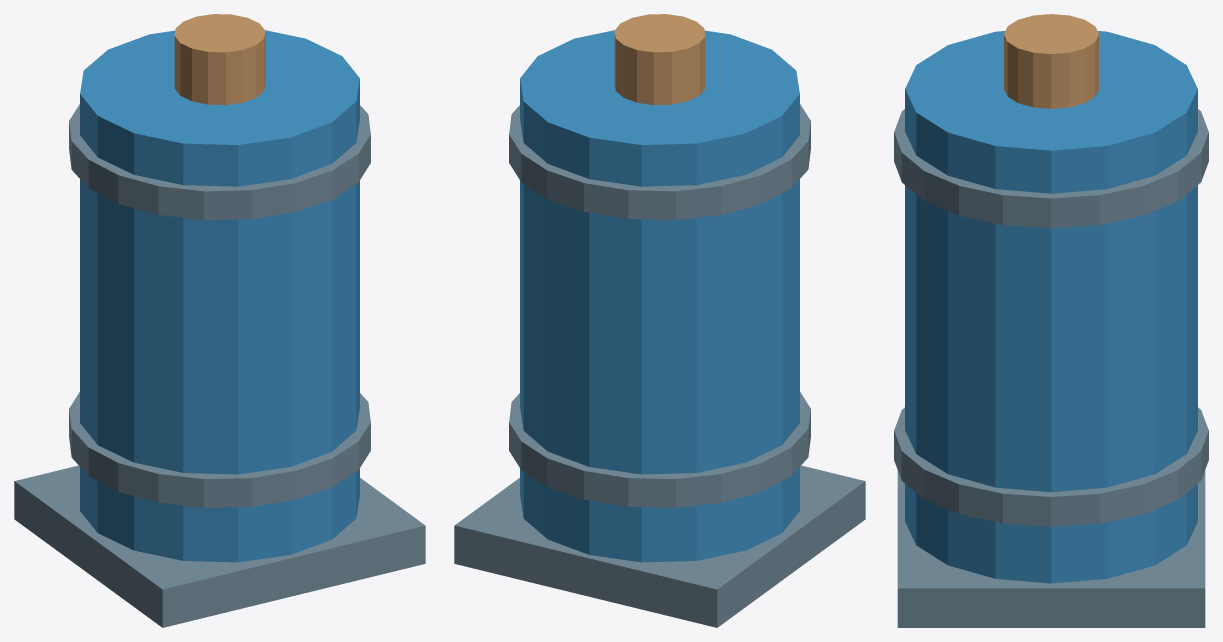
The model's file is 18_L69_SuctionAccumulator.glb.
The picture shows the model from 3 angles, left to right: view 1: azimuth 30°, elevation 25°; view 2: azimuth 150°, elevation 25°; view 3: azimuth 270°, elevation 25°; orthographic projection. The views are drawn at different scales.
Parts seen in each view (by area): view 1: SuctionAccumulator_Part_000, SuctionAccumulator_Part_004, SuctionAccumulator_Part_003, SuctionAccumulator_Part_002, SuctionAccumulator_Part_001; view 2: SuctionAccumulator_Part_000, SuctionAccumulator_Part_004, SuctionAccumulator_Part_003, SuctionAccumulator_Part_002, SuctionAccumulator_Part_001; view 3: SuctionAccumulator_Part_000, SuctionAccumulator_Part_004, SuctionAccumulator_Part_003, SuctionAccumulator_Part_002, SuctionAccumulator_Part_001.
Part boxes in pixels (x1,y1,x2,y2): SuctionAccumulator_Part_000: [80, 30, 359, 562]; SuctionAccumulator_Part_004: [14, 465, 425, 627]; SuctionAccumulator_Part_003: [69, 104, 370, 219]; SuctionAccumulator_Part_002: [69, 392, 370, 507]; SuctionAccumulator_Part_001: [174, 14, 265, 105]; SuctionAccumulator_Part_000: [520, 30, 799, 562]; SuctionAccumulator_Part_004: [454, 465, 865, 627]; SuctionAccumulator_Part_003: [509, 104, 810, 219]; SuctionAccumulator_Part_002: [509, 392, 810, 507]; SuctionAccumulator_Part_001: [614, 14, 705, 105]; SuctionAccumulator_Part_000: [905, 31, 1197, 583]; SuctionAccumulator_Part_004: [897, 470, 1205, 627]; SuctionAccumulator_Part_003: [894, 109, 1208, 228]; SuctionAccumulator_Part_002: [894, 407, 1208, 526]; SuctionAccumulator_Part_001: [1004, 14, 1098, 108].
Size of the model in its own units: 0.86 by 1.59 by 0.86.
